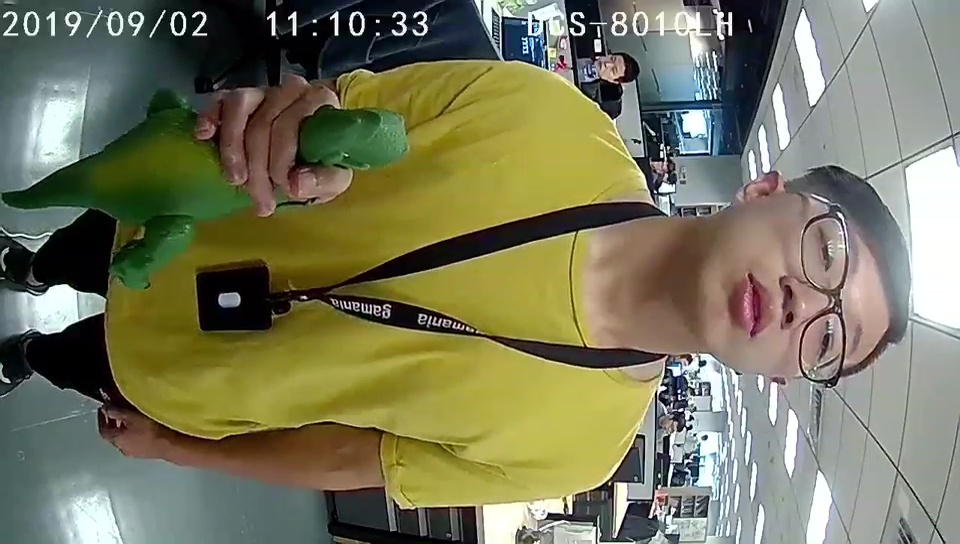rex: (108, 103, 409, 292)
